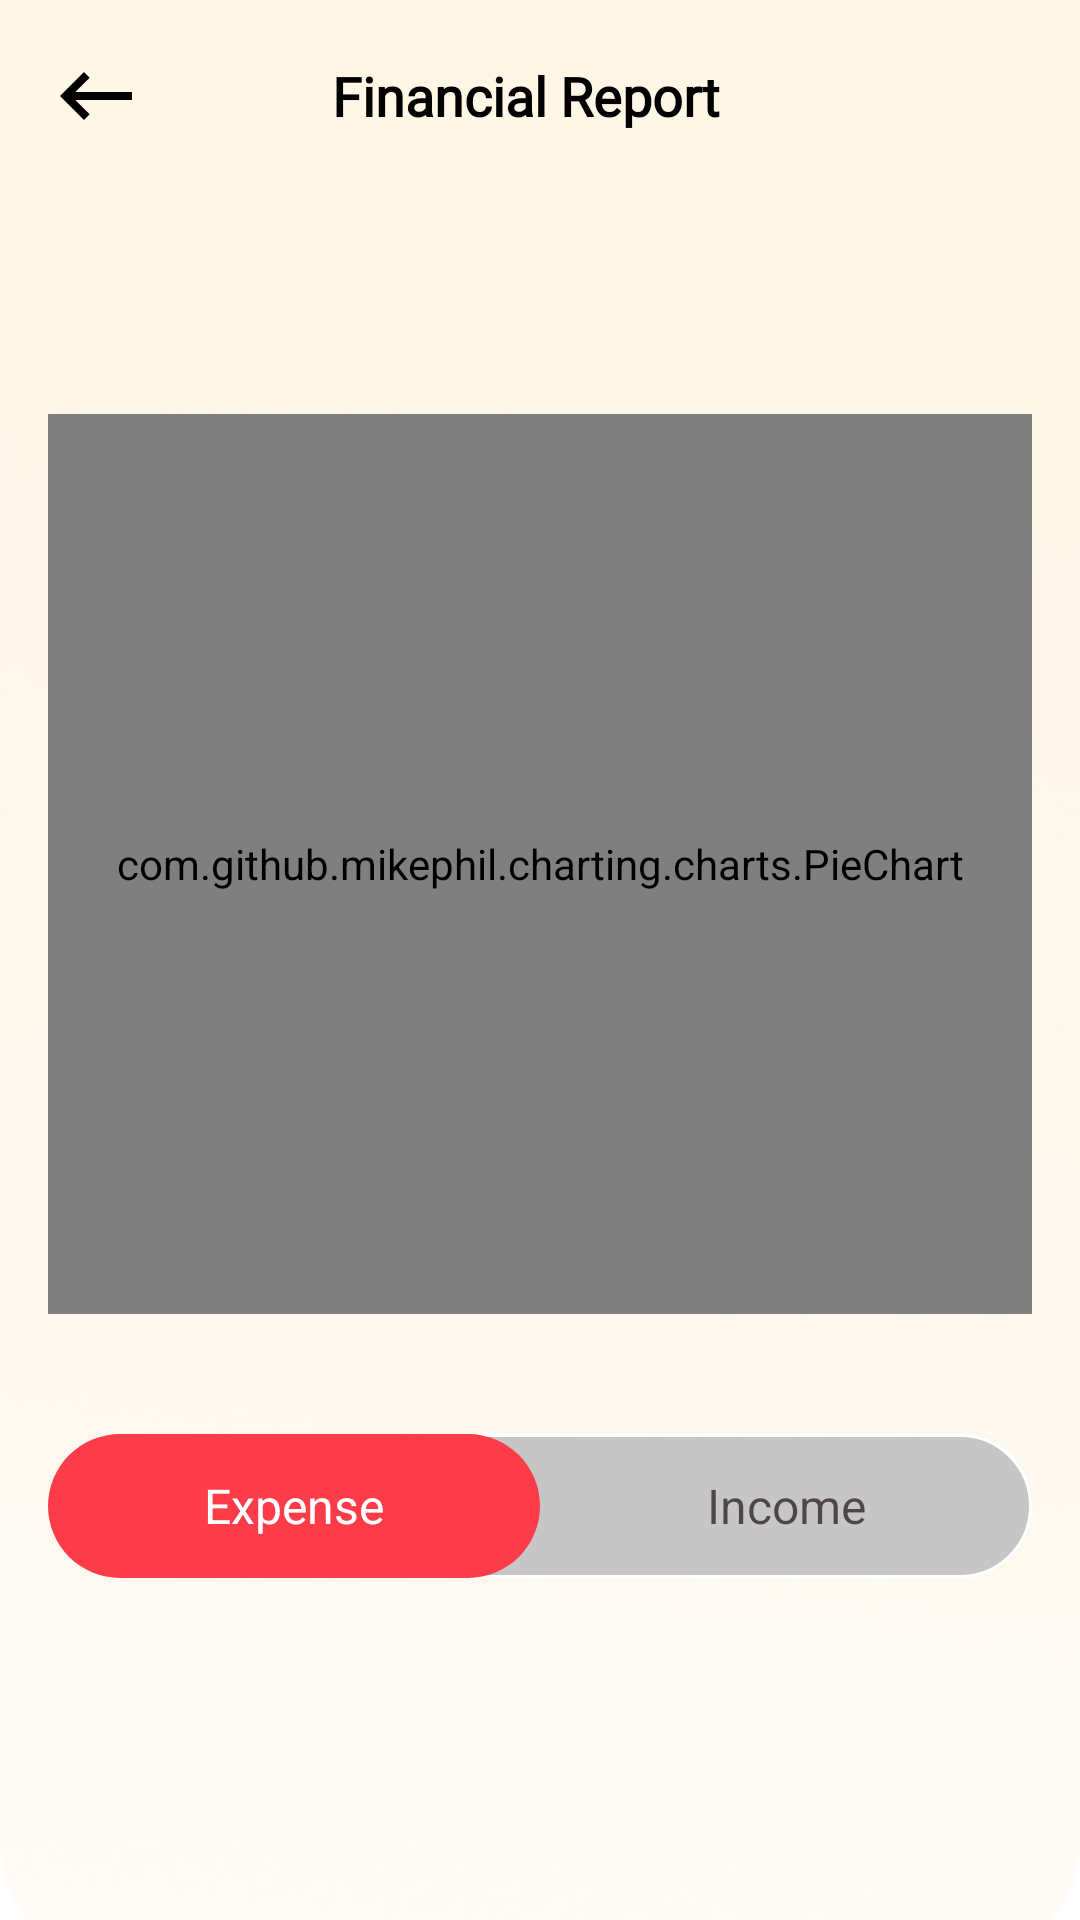

Locate icon controls on the screen. Image size 1080x1920, boxes as (x1, y1, x2, y2).
keyboard backspace: (60, 72, 132, 120)
